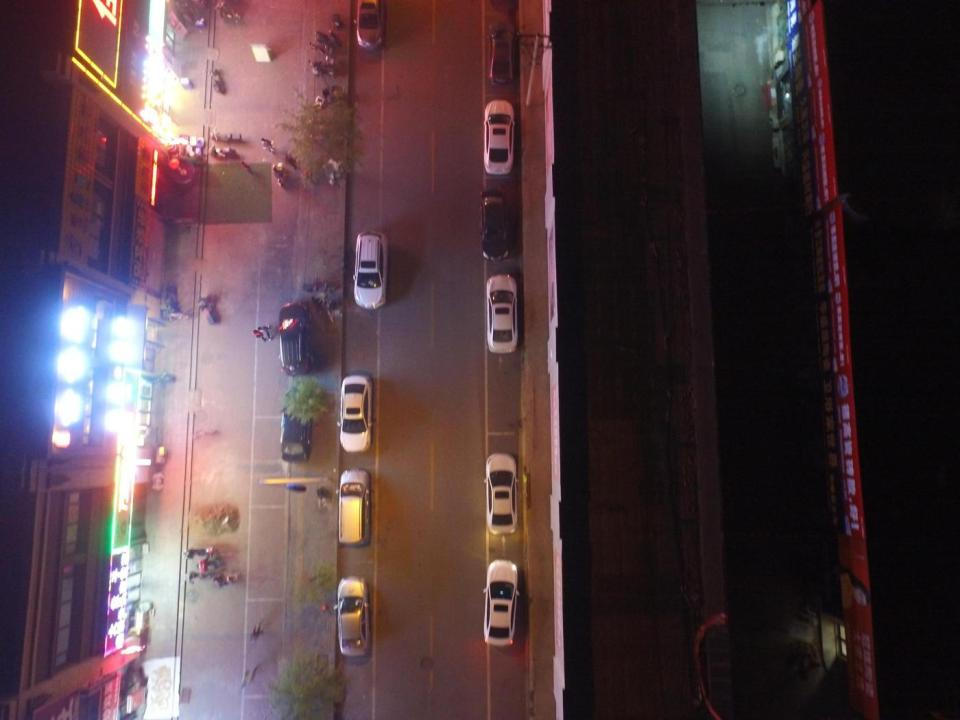car: (484, 558, 519, 646), (333, 576, 370, 656), (484, 453, 518, 534), (337, 374, 372, 452), (486, 274, 518, 354), (483, 100, 514, 173), (480, 189, 508, 262), (490, 20, 513, 84)
truck: (353, 231, 388, 309)
van: (336, 468, 371, 546), (278, 302, 313, 374), (280, 387, 312, 461), (354, 1, 382, 50)
